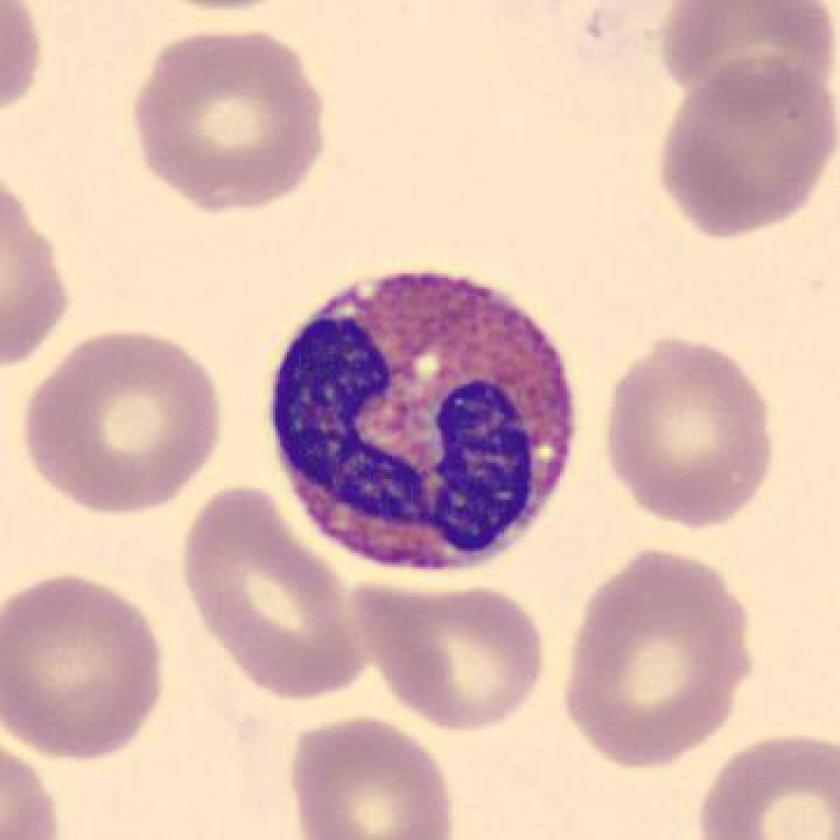eosinophil: (260, 256, 587, 589)
